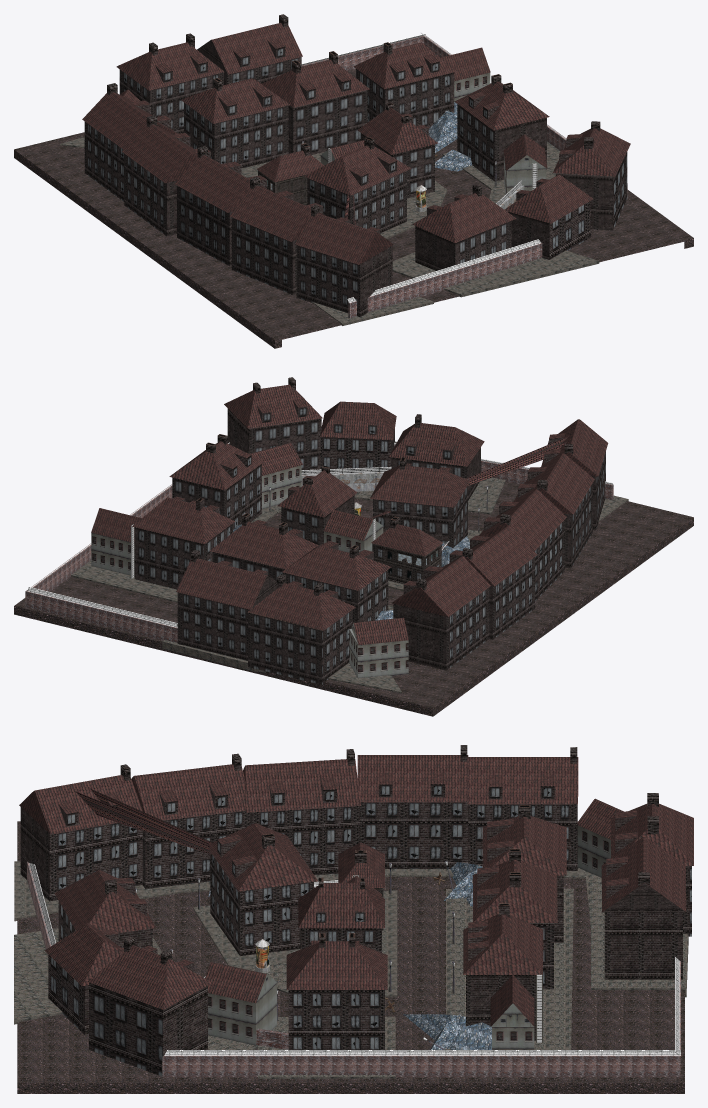
The picture shows the model from 3 angles, top to bottom: view 1: azimuth 30°, elevation 25°; view 2: azimuth 150°, elevation 25°; view 3: azimuth 270°, elevation 25°; orthographic projection. The views are drawn at different scales.
Visible parts, largest first — view 1: ak47; view 2: ak47; view 3: ak47.
Boxes of the visible parts, <box> form: ak47: <box>14,14,693,348</box>; ak47: <box>14,377,693,716</box>; ak47: <box>14,745,693,1093</box>.
Bounding box in the file's own units: 65.55 × 13.65 × 71.98.
